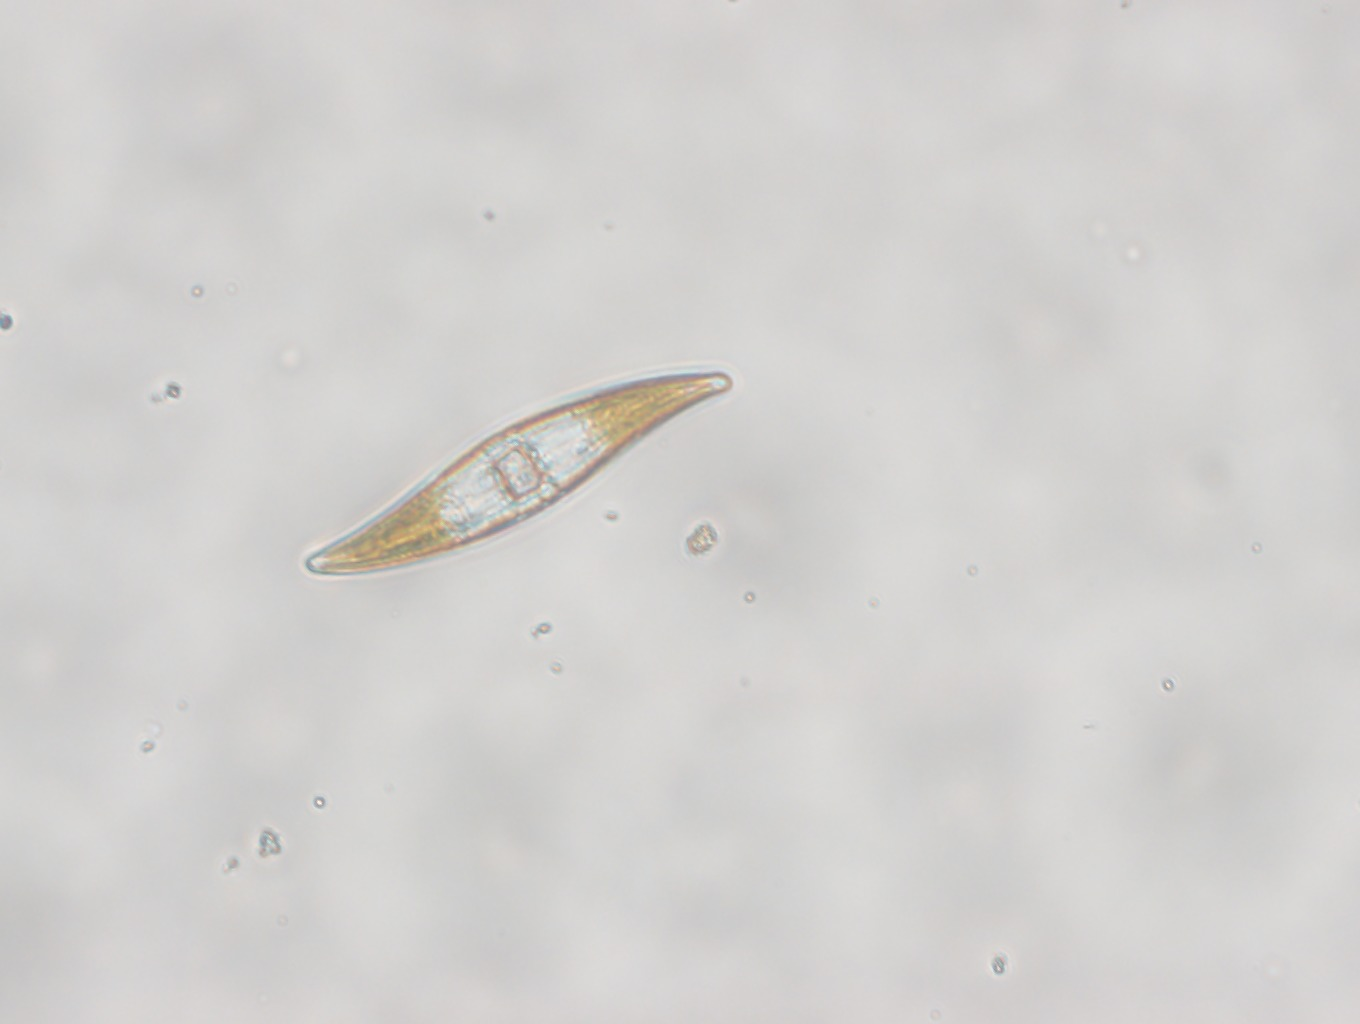pleurosigma pelagicum: (297, 359, 739, 583)
